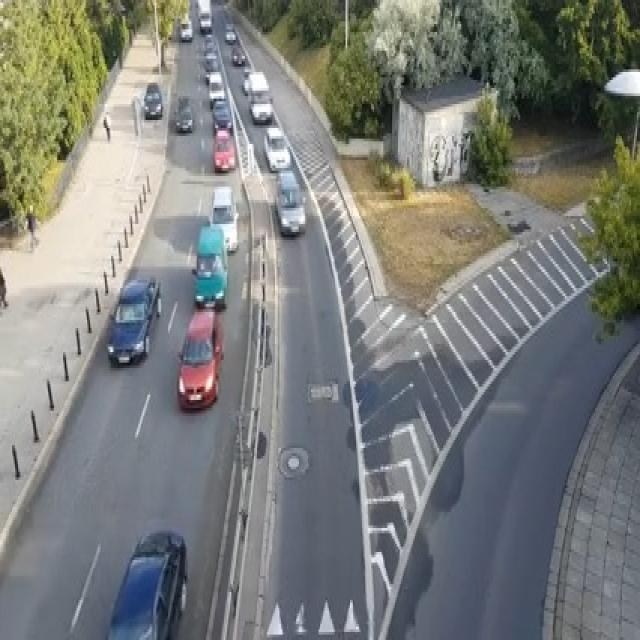car: (105, 528, 186, 637), (105, 275, 161, 365), (176, 309, 224, 411), (191, 222, 228, 310), (275, 168, 305, 235), (209, 184, 239, 251), (263, 125, 290, 171), (212, 128, 234, 171), (249, 90, 272, 122), (173, 93, 192, 131), (143, 83, 162, 117), (212, 99, 231, 133), (208, 69, 225, 107), (179, 16, 192, 40), (242, 67, 254, 93), (231, 45, 245, 64), (224, 21, 236, 43)
